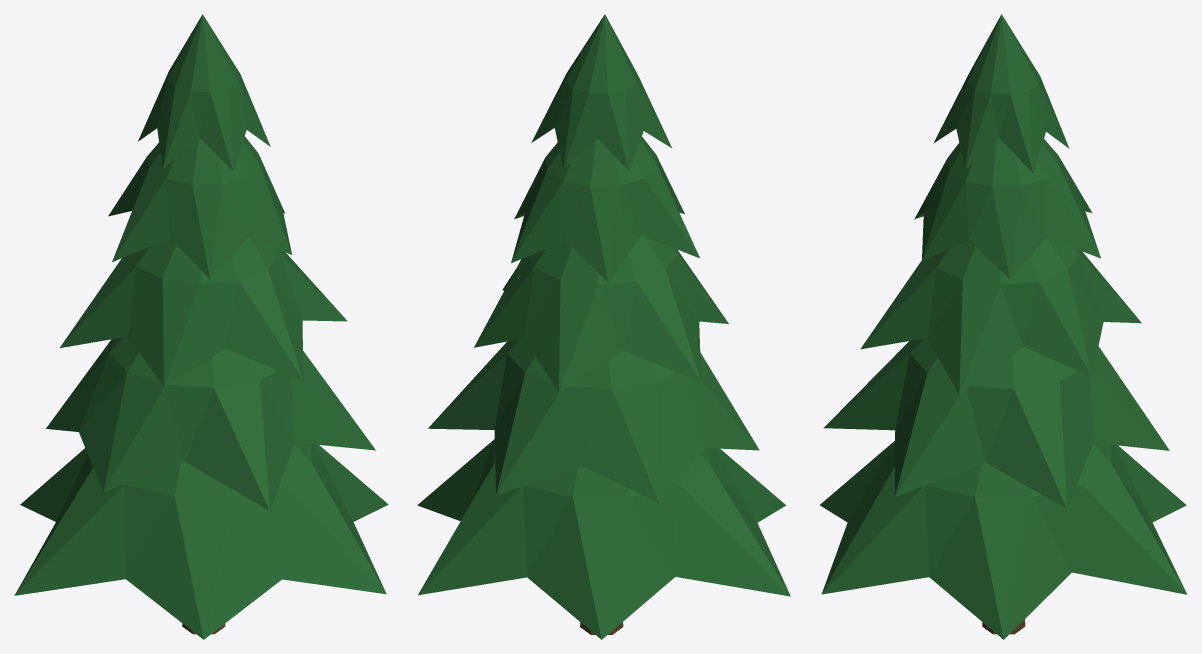
File: pine.glb
3 views of the same model, side by side, from view 1: azimuth 30°, elevation 25°; view 2: azimuth 150°, elevation 25°; view 3: azimuth 270°, elevation 25° (orthographic).
Visible parts, largest first — view 1: needles; view 2: needles; view 3: needles.
Part boxes in pixels (x1,y1,x2,y2): needles: [14, 14, 388, 639]; needles: [417, 14, 790, 639]; needles: [820, 14, 1187, 639].
Size of the model in its own units: 6.38 by 10 by 5.45.
